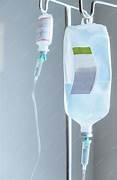Iv_Bottle: (63, 23, 111, 132), (36, 13, 52, 52)
